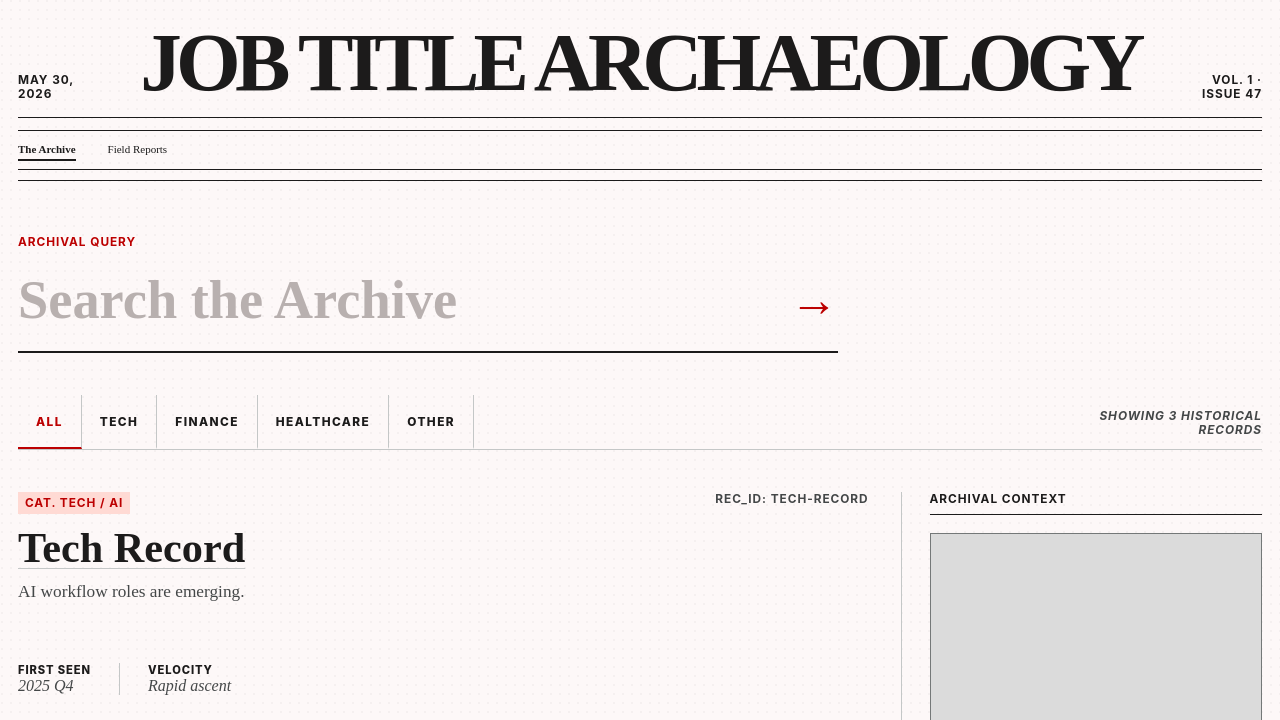
App › filters by broad categories and supports multi-category records
Expected: the button "TECH" is shown, left=82, top=395, right=157, bottom=449
Expected: the button "FINANCE" is shown, left=157, top=395, right=258, bottom=449
Click the button "HEALTHCARE".
click(324, 422)  # box left=258, top=395, right=389, bottom=449
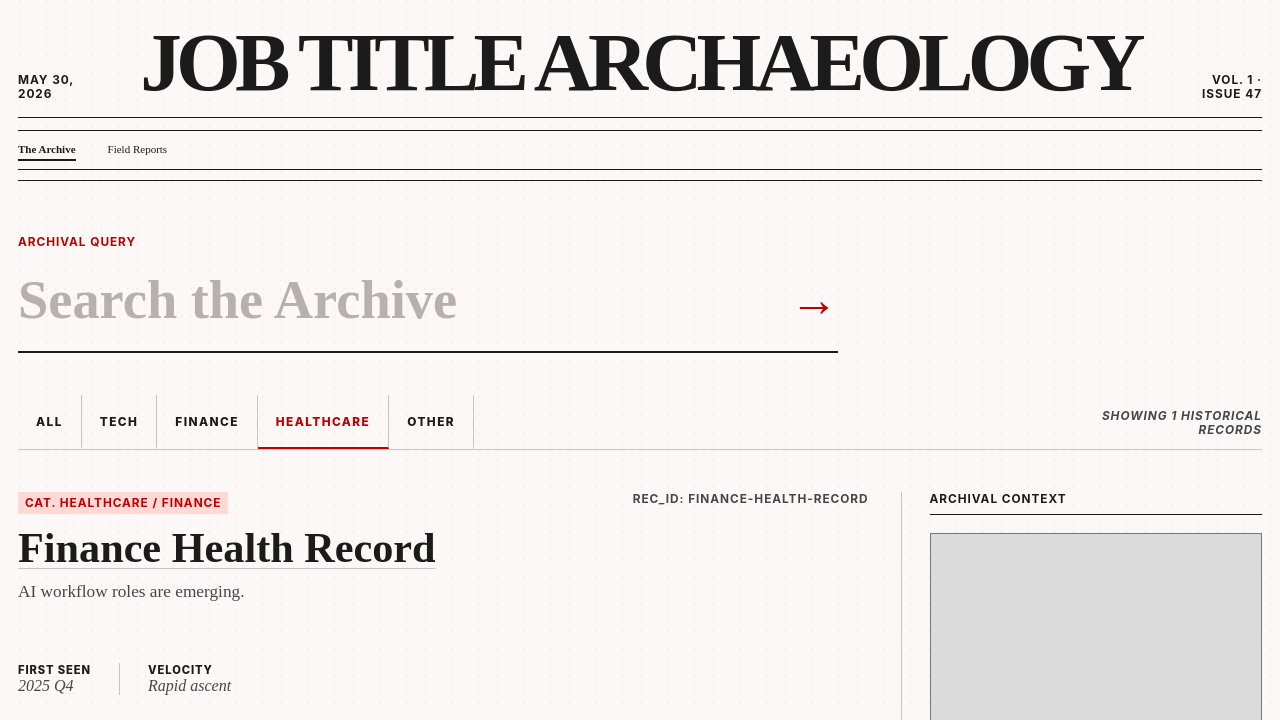
Expected: the button "Finance Health Record" is shown, left=18, top=526, right=868, bottom=570
Expected: the button "Tech Record" is gone
